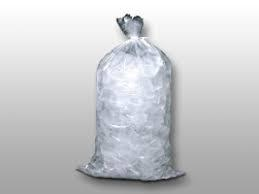Plastic bag: (69, 7, 191, 193)
